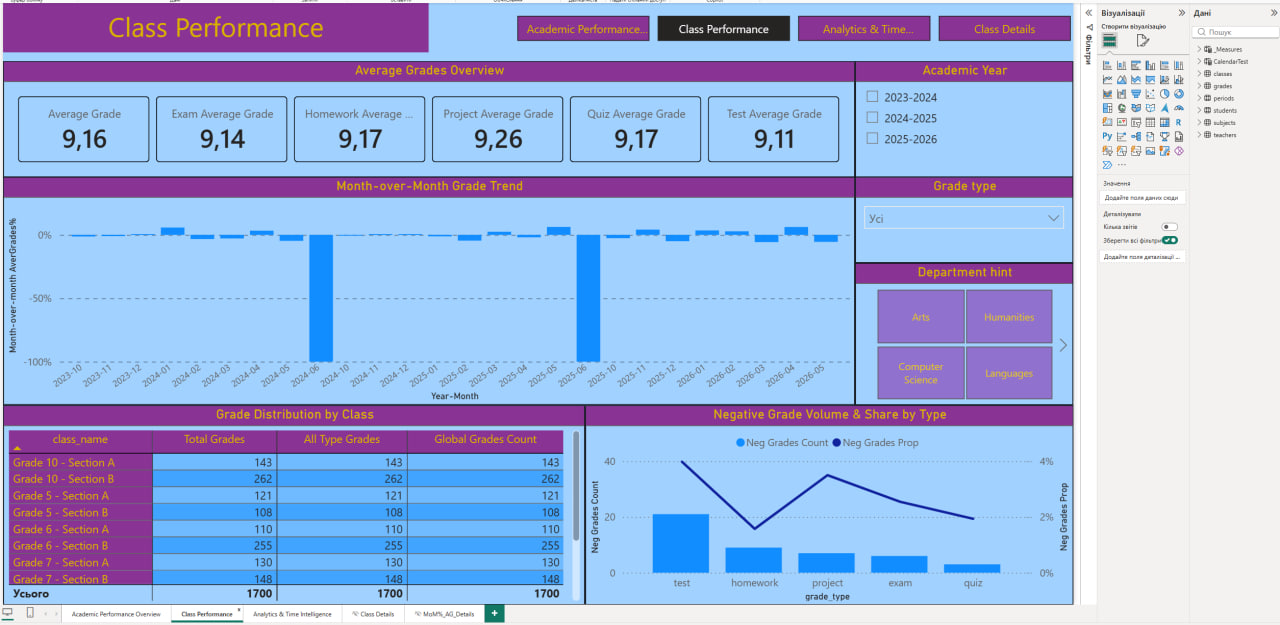

Layout of this report page (visuals, bound fields, positions):
{"tool":"powerbi","page":{"name":"Class Performance","canvas":[1280,720],"ordinal":1},"visuals":[{"type":"cardVisual","title":"Average Grades Overview","fields":{"Data":["_Measures.Average Grade","_Measures.Exam Average Grade","_Measures.Homework Average Grade","_Measures.Project Average Grade","_Measures.Quiz Average Grade","_Measures.Test Average Grade"]},"box":[0,69.4,1018.8,138.8],"z":0},{"type":"tableEx","title":"Grade Distribution by Class","fields":{"Values":["classes.class_name","_Measures.Total Grades","_Measures.All Type Grades","_Measures.Global Grades Count"]},"box":[0,481.2,696.2,239.4],"z":1000},{"type":"lineClusteredColumnComboChart","title":"Negative Grade Volume & Share by Type","fields":{"Y2":["_Measures.Neg Grades Prop"],"Y":["_Measures.Neg Grades Count"],"Category":["grades.grade_type"]},"box":[696.2,481.2,583.8,239.4],"z":2000},{"type":"clusteredColumnChart","title":"Month-over-Month Grade Trend","fields":{"Y":["_Measures.MoM_AG%"],"Category":["CalendarTest.Year-Month"]},"box":[0,208.1,1018.8,273.1],"z":3000},{"type":"slicer","title":"Grade type","fields":{"Values":["grades.grade_type"]},"box":[1018.8,208.1,261.2,103.1],"z":4000},{"type":"slicer","title":"Academic Year","fields":{"Values":["periods.academic_year"]},"box":[1018.8,69.4,261.2,138.8],"z":5000},{"type":"slicer","title":"Department hint","fields":{"Values":["subjects.department_hint"]},"box":[1018.8,311.2,261.2,170],"z":6000},{"type":"textbox","title":"рпвапрв","box":[0,0,509.4,59.4],"z":7000},{"type":"pageNavigator","box":[615,15,665,30],"z":8000}]}

Visuals, with their boxes on the page's 1280x720 design canvas (x1, y1, x2, y2). These are canvas units, not pixel positions in the 1280x625 screenshot, which may show the page scaled, cropped or inside an application window:
"Average Grades Overview" cardVisual: l=0, t=69, r=1019, b=208
"Grade Distribution by Class" tableEx: l=0, t=481, r=696, b=721
"Negative Grade Volume & Share by Type" lineClusteredColumnComboChart: l=696, t=481, r=1280, b=721
"Month-over-Month Grade Trend" clusteredColumnChart: l=0, t=208, r=1019, b=481
"Grade type" slicer: l=1019, t=208, r=1280, b=311
"Academic Year" slicer: l=1019, t=69, r=1280, b=208
"Department hint" slicer: l=1019, t=311, r=1280, b=481
"рпвапрв" textbox: l=0, t=0, r=509, b=59
pageNavigator: l=615, t=15, r=1280, b=45
